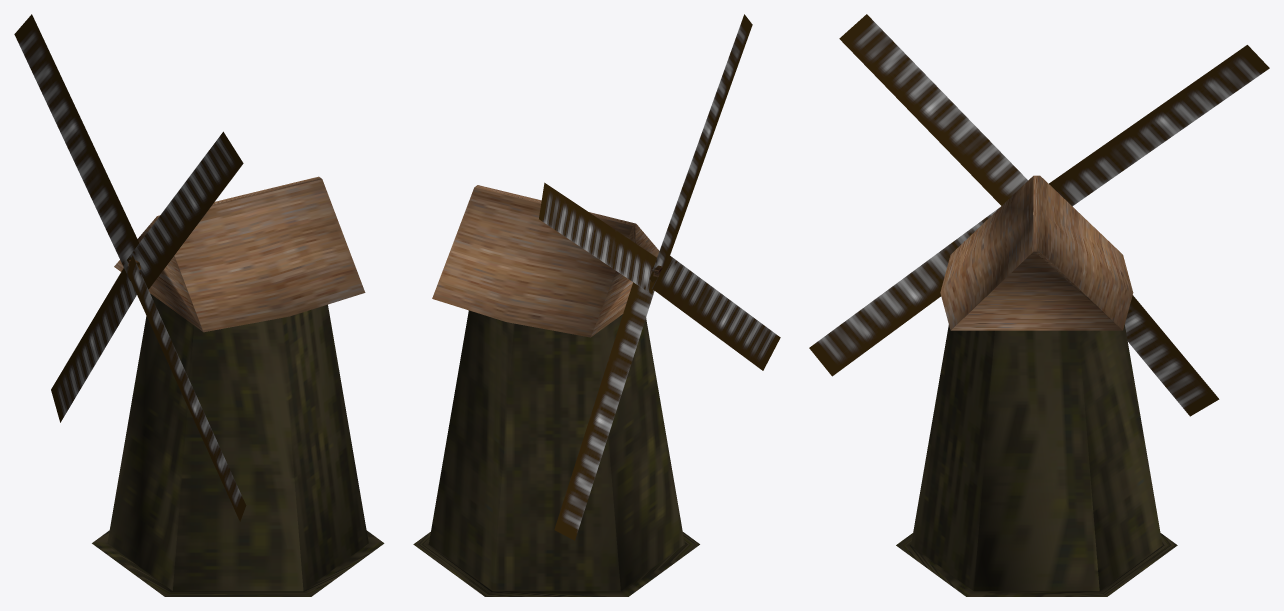
The model's file is Wiatrak.fbx.
The picture shows the model from 3 angles, left to right: view 1: azimuth 30°, elevation 25°; view 2: azimuth 150°, elevation 25°; view 3: azimuth 270°, elevation 25°; orthographic projection. The views are drawn at different scales.
Parts seen in each view (by area): view 1: Plane.002; view 2: Plane.002; view 3: Plane.002.
Boxes of the visible parts, x1,y1,x2,y2 form: Plane.002: [14, 14, 384, 596]; Plane.002: [413, 14, 780, 596]; Plane.002: [809, 14, 1269, 596].
Size of the model in its own units: 173 by 378 by 327.
1 material, 1 textured.
